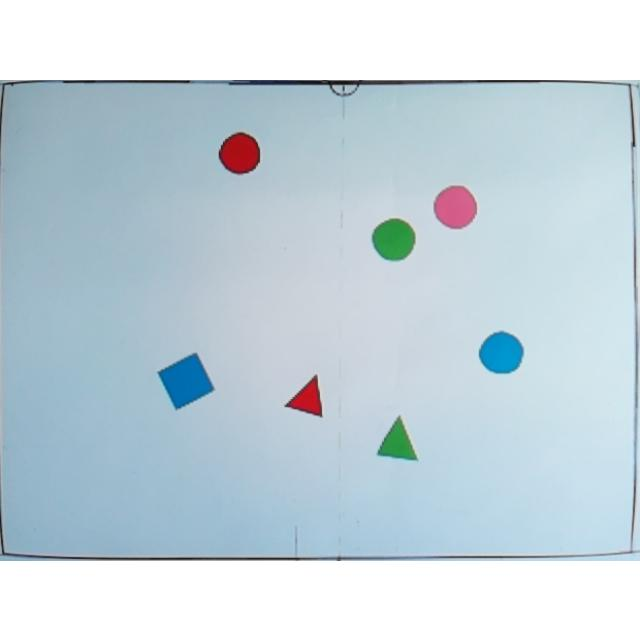blueCircle: (478, 329, 524, 373)
blueSquare: (158, 351, 215, 409)
greenCircle: (372, 216, 416, 260)
greenTriangle: (376, 413, 419, 461)
pinkCircle: (432, 184, 478, 228)
redCircle: (219, 130, 261, 174)
redTriangle: (284, 370, 326, 418)
